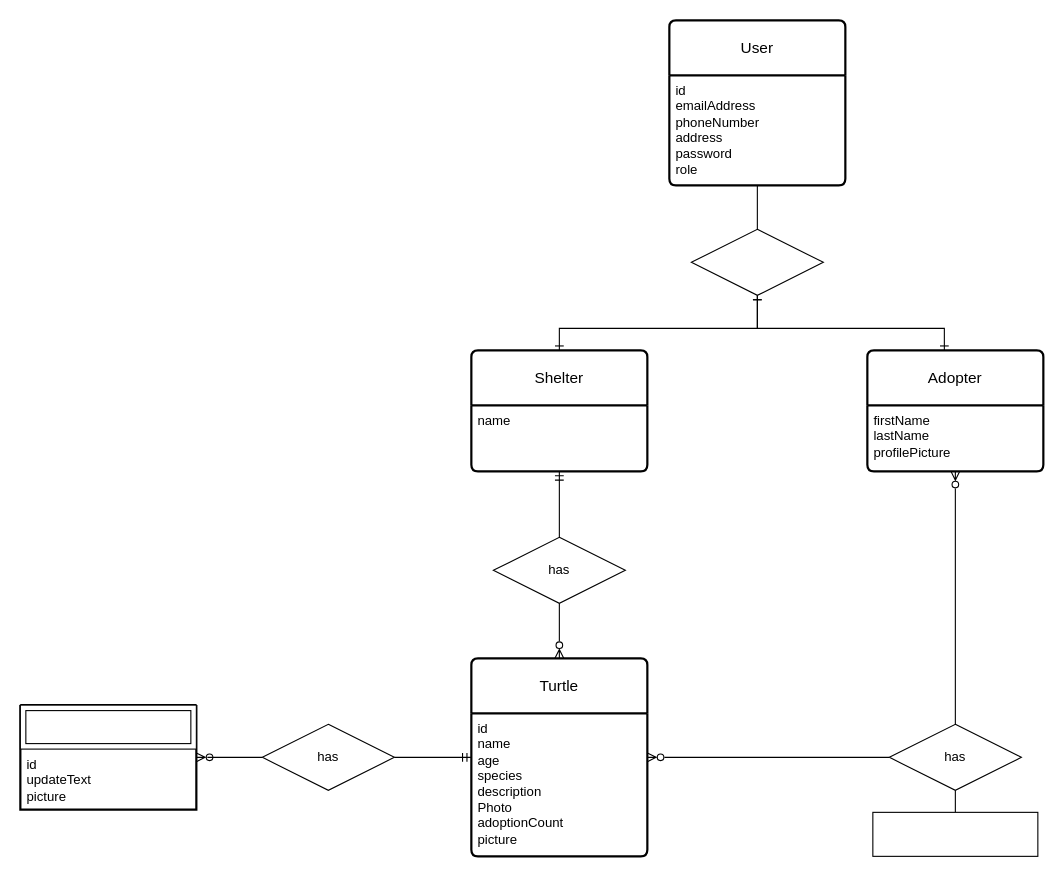
The diagram is 1063 pixels wide and 876 high, and some of its shapes have lost their labels. The centre of each missing label's shape, as x and y in pixels:
is a: pixel 756 261
monthlyDonationAmount: pixel 955 833
Update: pixel 107 726
